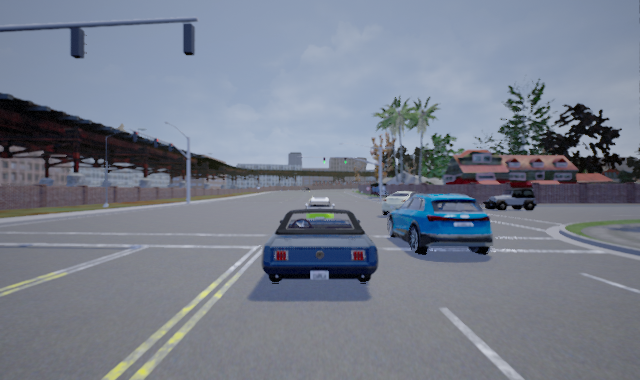vehicle: (259, 205, 379, 285), (385, 193, 493, 255), (377, 190, 439, 218), (482, 188, 541, 211), (303, 196, 336, 228)
